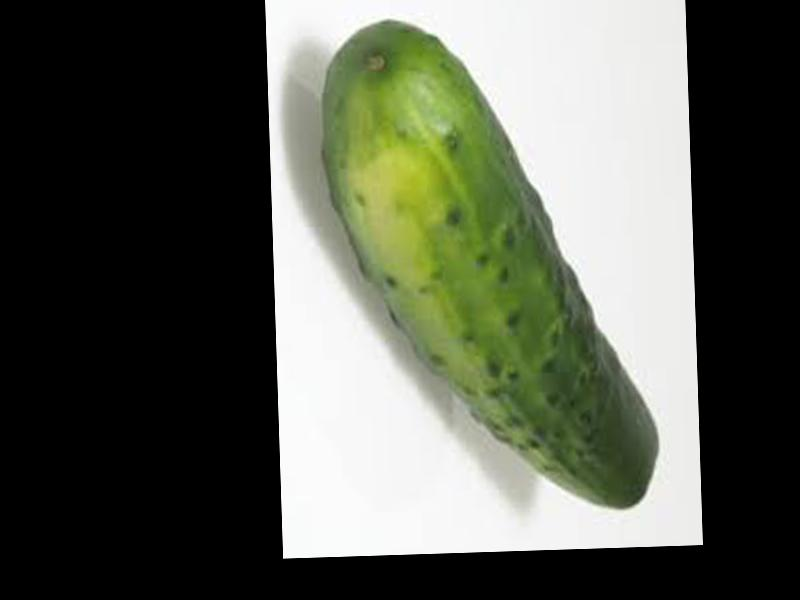Cucumber: (322, 15, 660, 518)
